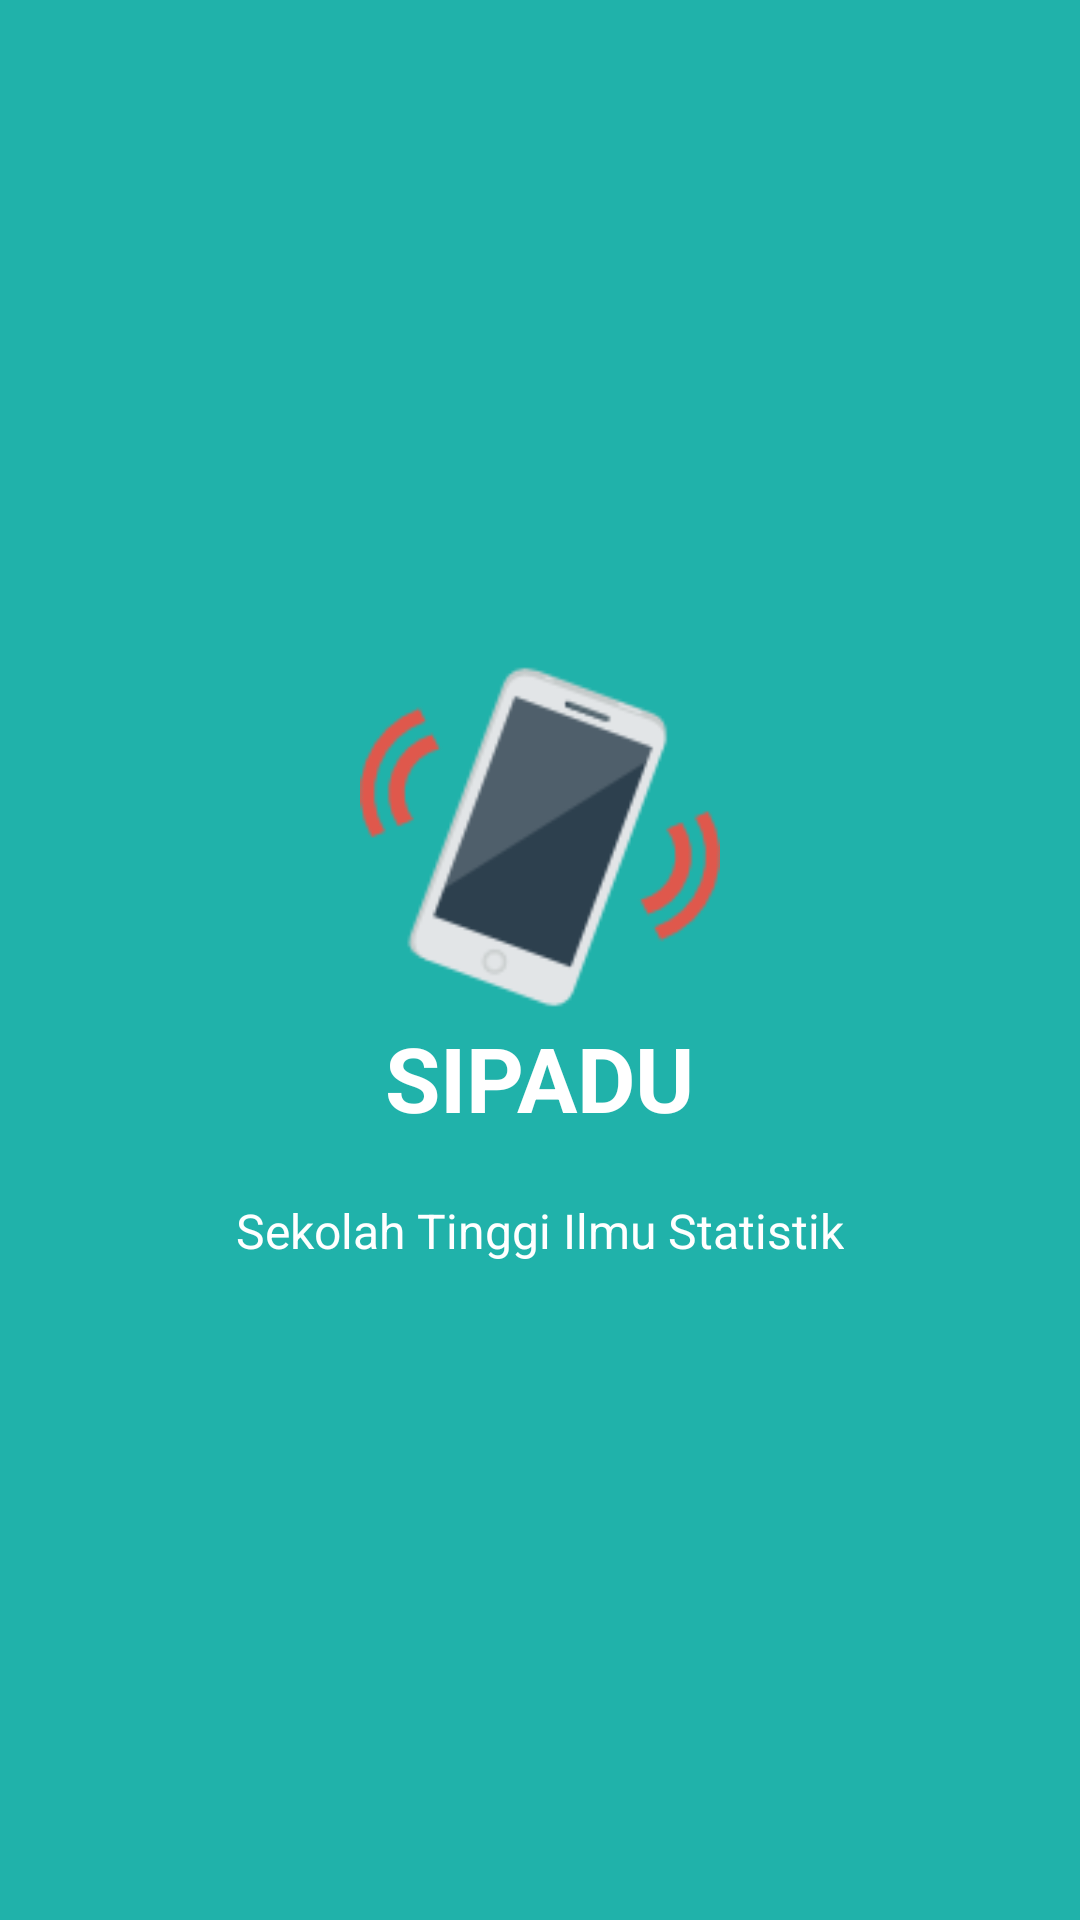

Screen size 1080px x 1920px. Icon name, then its center in pixels as [x,y]:
smartphone: [540,837]
